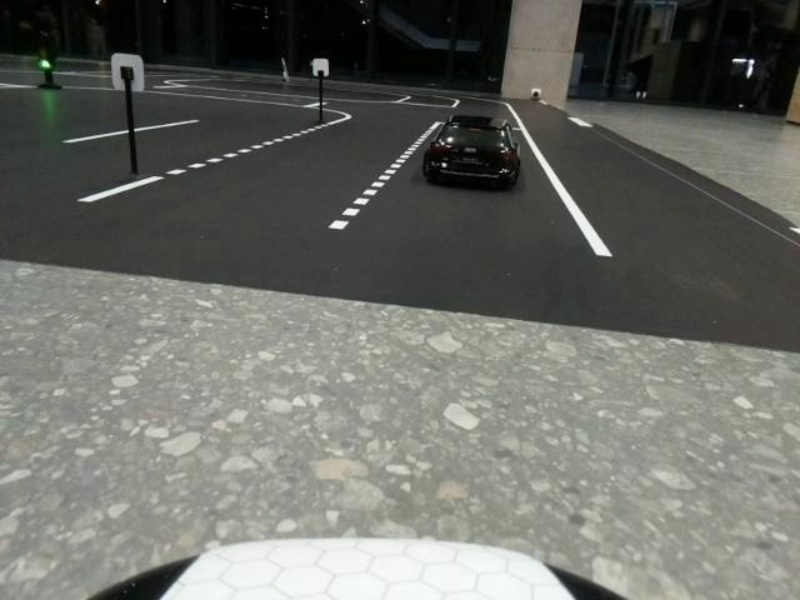car: (424, 112, 529, 191)
